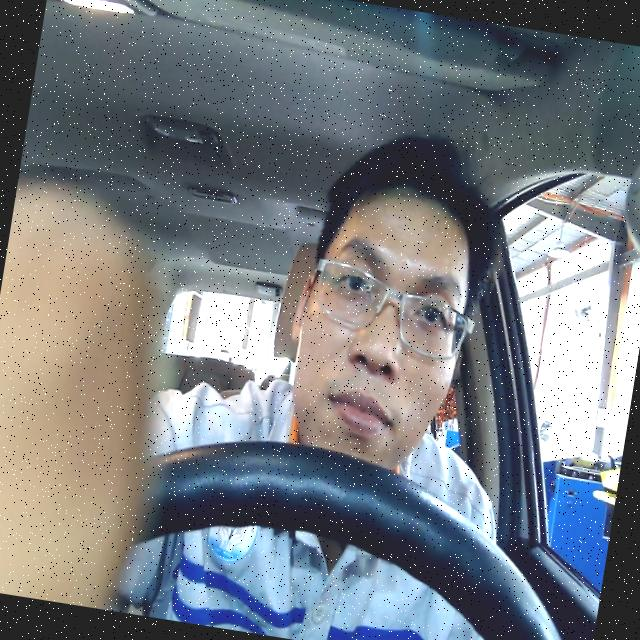focused: (273, 177, 484, 468)
